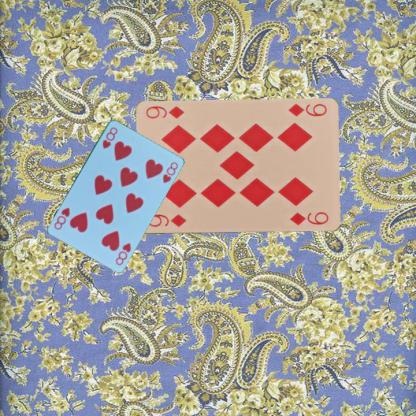8h: (113, 240, 132, 266), (100, 124, 118, 150)
9d: (286, 101, 328, 118), (145, 212, 187, 228)
